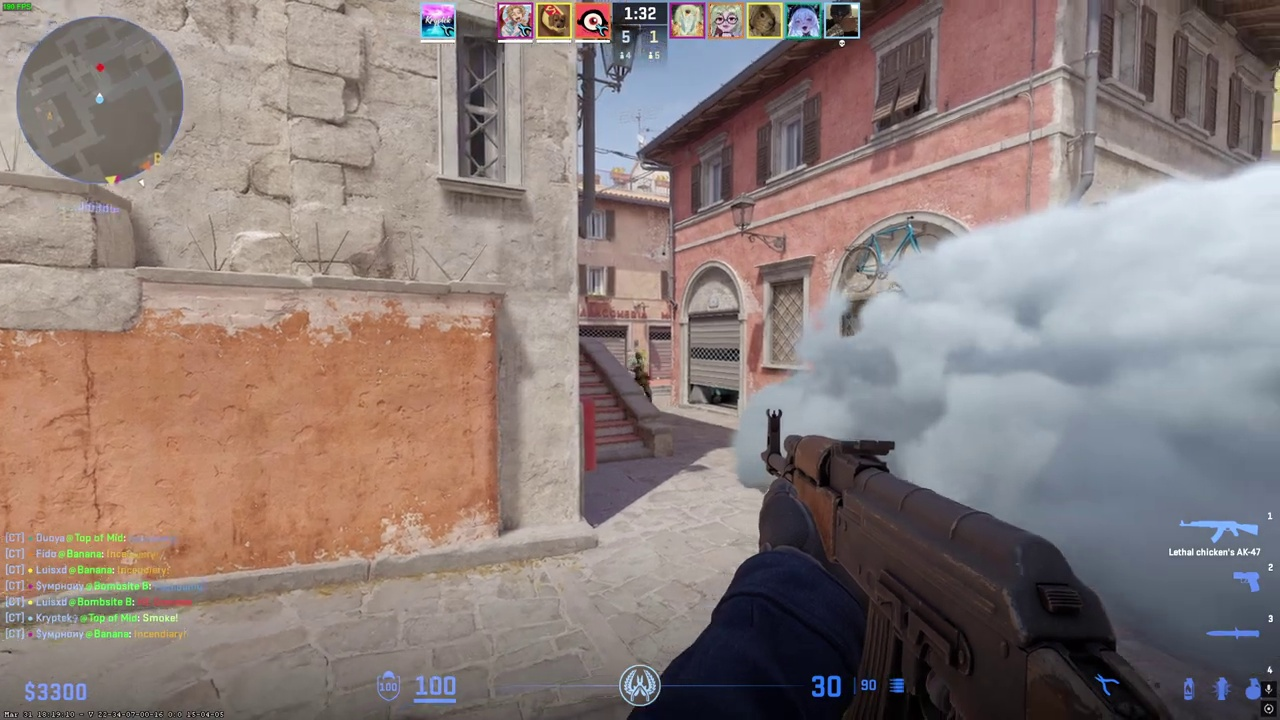Terrorist: (632, 352, 652, 402)
